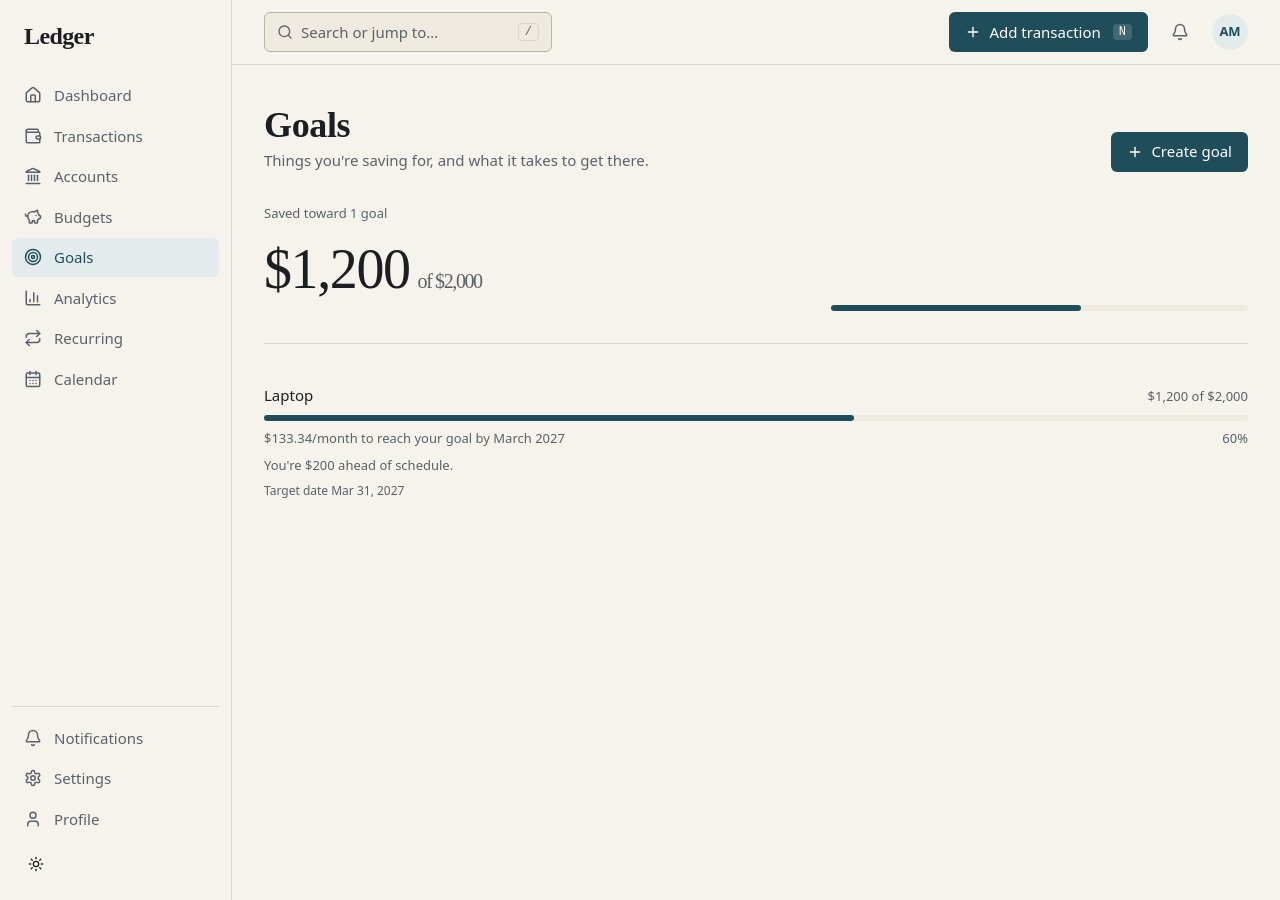
Test: goal drawer › shows the history with signed amounts
Click the button with aria-label "Open Laptop goal" at point(289, 395), box top-left (252, 368), bottom-right (1260, 516)
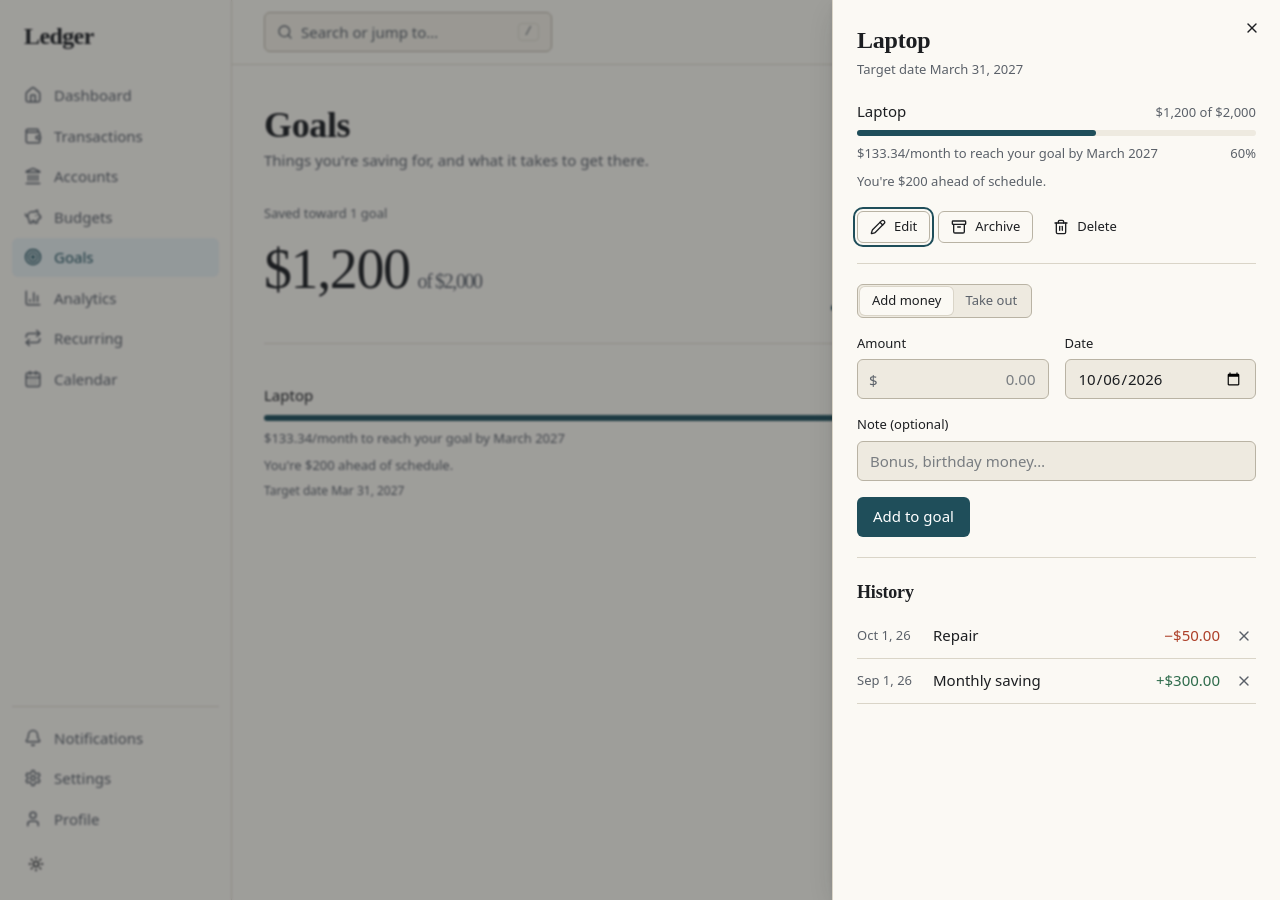
Expected: the text "Monthly saving" is shown, top-left (933, 670), bottom-right (1041, 690)
Expected: the text "+$300.00" is shown, top-left (1156, 670), bottom-right (1220, 690)
Expected: the text "−$50.00" is shown, top-left (1164, 625), bottom-right (1220, 645)
